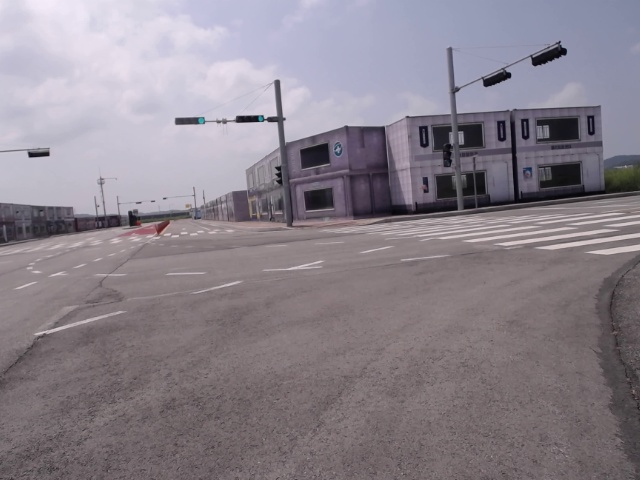straight_green_4: (175, 117, 205, 125), (237, 115, 263, 123)
